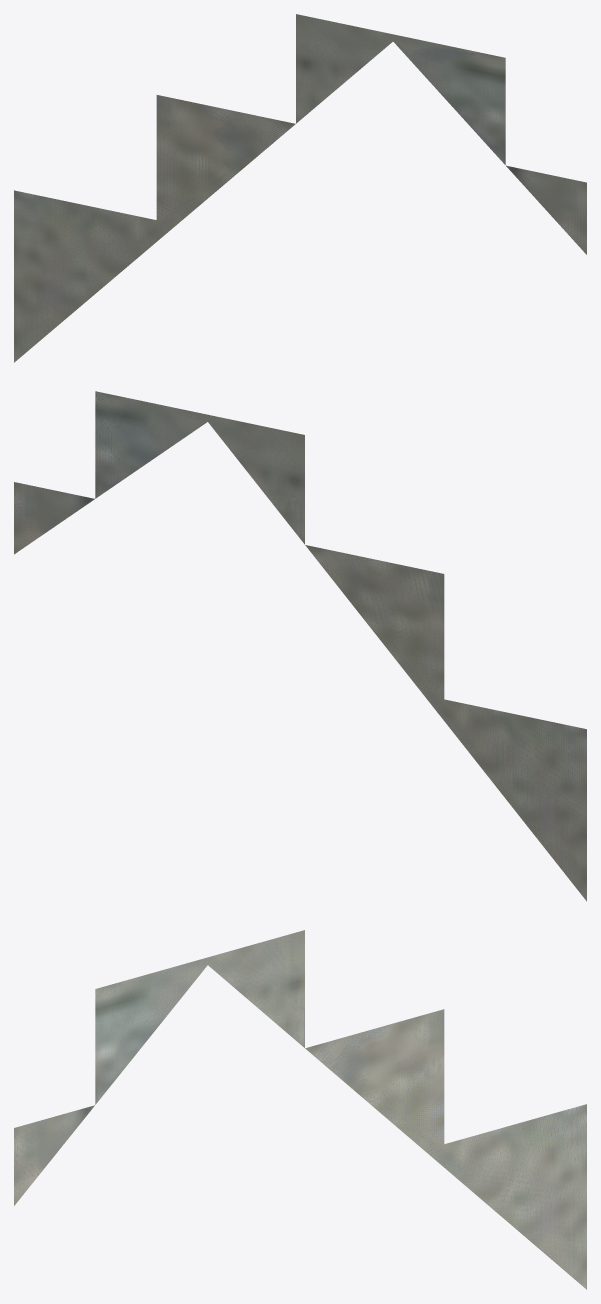
The model's file is 西庸城堡220.dae.
The picture shows the model from 3 angles, top to bottom: view 1: azimuth 30°, elevation 25°; view 2: azimuth 210°, elevation 25°; view 3: azimuth 270°, elevation 25°; orthographic projection. The views are drawn at different scales.
Parts seen in each view (by area): view 1: SketchUp; view 2: SketchUp; view 3: SketchUp.
Boxes of the visible parts, x1,y1,x2,y2 form: SketchUp: (14, 14, 586, 362); SketchUp: (14, 391, 586, 901); SketchUp: (14, 930, 586, 1289).
Size of the model in its own units: 140 by 210 by 178.
